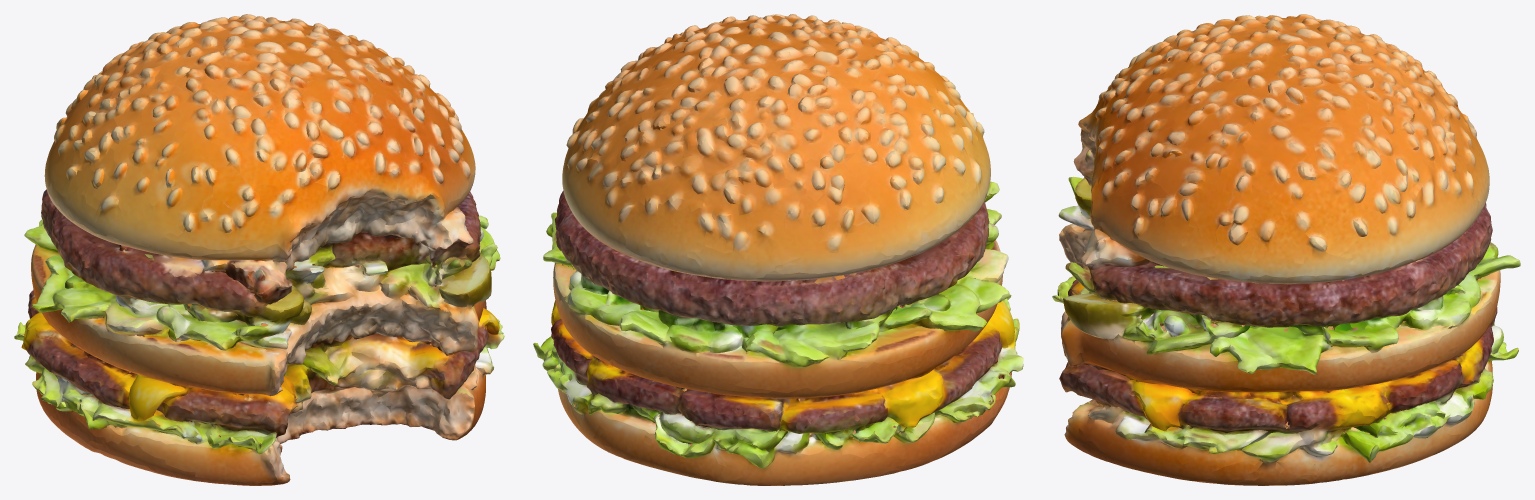
File: burger-1.glb
The picture shows the model from 3 angles, left to right: view 1: azimuth 30°, elevation 25°; view 2: azimuth 150°, elevation 25°; view 3: azimuth 270°, elevation 25°; orthographic projection.
Visible parts, largest first — view 1: geometry_0; view 2: geometry_0; view 3: geometry_0.
Boxes of the visible parts, x1,y1,x2,y2 form: geometry_0: (14,14,504,485); geometry_0: (533,14,1023,485); geometry_0: (1052,14,1520,485).
Bounding box in the file's own units: 0.1584 × 0.125 × 0.151.
Materials: 1 (1 with a texture image).
